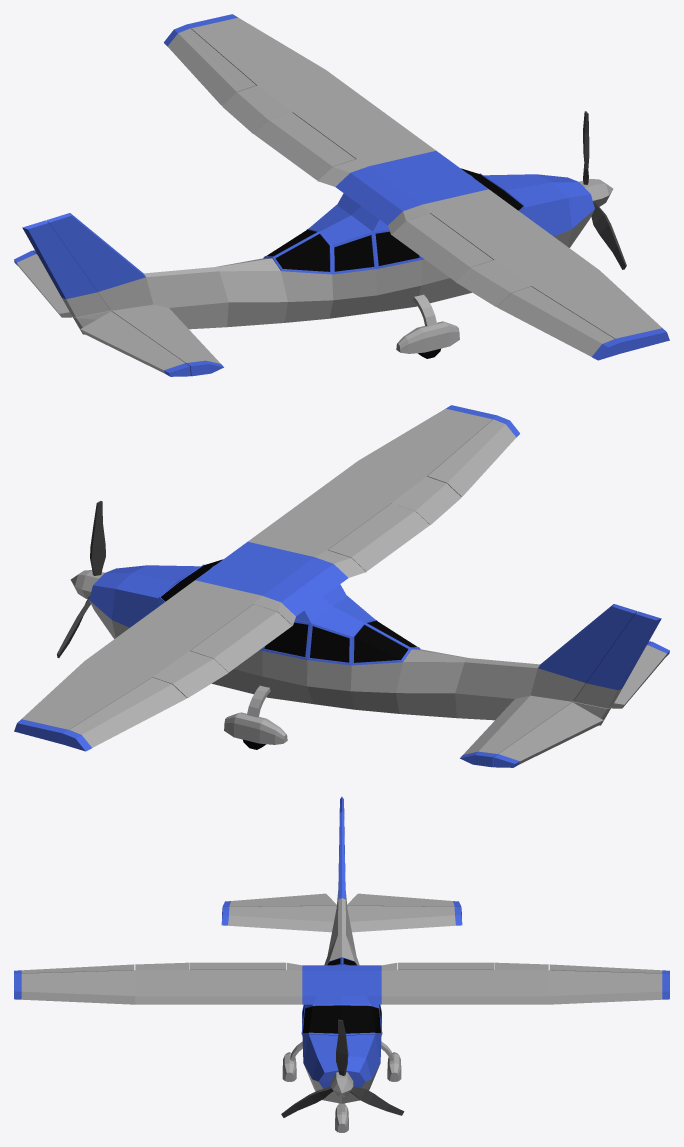
File: Livraison.fbx
3 renders of one model, top to bottom at view 1: azimuth 30°, elevation 25°; view 2: azimuth 150°, elevation 25°; view 3: azimuth 270°, elevation 25°, orthographic. The views are drawn at different scales.
Visible parts, largest first — view 1: MainBody, Flaps, Elevators, AileronRight, Rubber, AileronLeft, Propeller; view 2: MainBody, Flaps, Elevators, AileronLeft, Rubber, AileronRight, Propeller; view 3: MainBody, Elevators, Propeller, Flaps, AileronRight, AileronLeft.
Part boxes in pixels (left/top/right/bottom): MainBody: left=33, top=14, right=669, bottom=376; Flaps: left=254, top=112, right=493, bottom=281; Elevators: left=14, top=250, right=190, bottom=376; AileronRight: left=497, top=286, right=614, bottom=356; Rubber: left=22, top=220, right=110, bottom=317; AileronLeft: left=167, top=28, right=256, bottom=105; Propeller: left=579, top=111, right=626, bottom=269; MainBody: left=14, top=405, right=650, bottom=767; Flaps: left=190, top=503, right=429, bottom=672; Elevators: left=493, top=641, right=669, bottom=767; AileronLeft: left=69, top=677, right=186, bottom=747; Rubber: left=573, top=611, right=661, bottom=708; AileronRight: left=427, top=419, right=516, bottom=496; Propeller: left=57, top=501, right=105, bottom=657; MainBody: left=14, top=804, right=669, bottom=1132; Elevators: left=222, top=893, right=461, bottom=906; Propeller: left=281, top=1019, right=404, bottom=1117; Flaps: left=190, top=962, right=493, bottom=969; AileronRight: left=21, top=964, right=134, bottom=973; AileronLeft: left=549, top=964, right=662, bottom=973.
Size of the model in its own units: 1556 by 497 by 1981.
